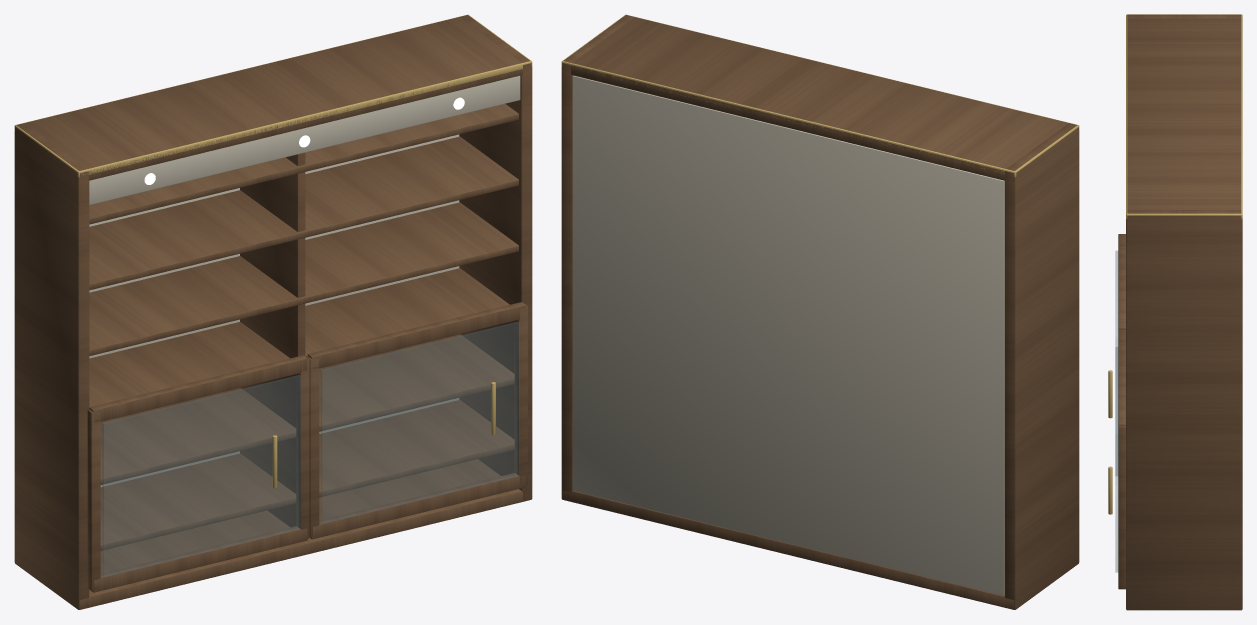
File: pf_display_built_in_cabinetry_t4.glb
3 renders of one model, left to right at view 1: azimuth 30°, elevation 25°; view 2: azimuth 150°, elevation 25°; view 3: azimuth 270°, elevation 25°, orthographic. The views are drawn at different scales.
Parts seen in each view (by area): view 1: Case_Left, Door_Glass_01, Door_Glass_02, Case_Top, Shelf_05, Shelf_04, Shelf_01, Shelf_02, Shelf_03, Case_Base, Case_Right, Header_Back (+12 smaller); view 2: Case_Back, Case_Left, Case_Top, Case_Right, Case_Base, Crown_Trim; view 3: Case_Right, Case_Top, Door_Frame_02_R, Crown_Trim, Door_Frame_02_Top, Door_Frame_01_Top, Door_Glass_02, Door_Glass_01, Case_Left, Door_Handle_02, Door_Handle_01.
Boxes of the visible parts, x1,y1,x2,y2 form: Case_Left: [14, 123, 89, 609]; Door_Glass_01: [102, 375, 300, 576]; Door_Glass_02: [321, 322, 519, 523]; Case_Top: [25, 17, 522, 180]; Shelf_05: [89, 136, 518, 290]; Shelf_04: [89, 202, 518, 355]; Shelf_01: [100, 400, 514, 550]; Shelf_02: [100, 334, 514, 484]; Shelf_03: [89, 268, 509, 407]; Case_Base: [78, 459, 532, 609]; Case_Right: [459, 15, 532, 501]; Header_Back: [89, 75, 520, 204]; Case_Back: [572, 75, 1004, 595]; Case_Left: [1004, 123, 1079, 609]; Case_Top: [566, 17, 1076, 181]; Case_Right: [561, 15, 634, 501]; Case_Base: [562, 490, 1014, 609]; Crown_Trim: [561, 14, 1079, 177]; Case_Right: [1126, 210, 1242, 610]; Case_Top: [1127, 16, 1241, 223]; Door_Frame_02_R: [1118, 426, 1125, 588]; Crown_Trim: [1126, 14, 1242, 219]; Door_Frame_02_Top: [1118, 330, 1125, 426]; Door_Frame_01_Top: [1118, 234, 1125, 329]; Door_Glass_02: [1115, 347, 1117, 572]; Door_Glass_01: [1115, 251, 1117, 475]; Case_Left: [1127, 14, 1241, 18]; Door_Handle_02: [1108, 466, 1112, 514]; Door_Handle_01: [1108, 370, 1112, 418].
Bounding box in the file's own units: 2.6 × 2.4 × 0.737.
Materials: 6 (1 with a texture image).
